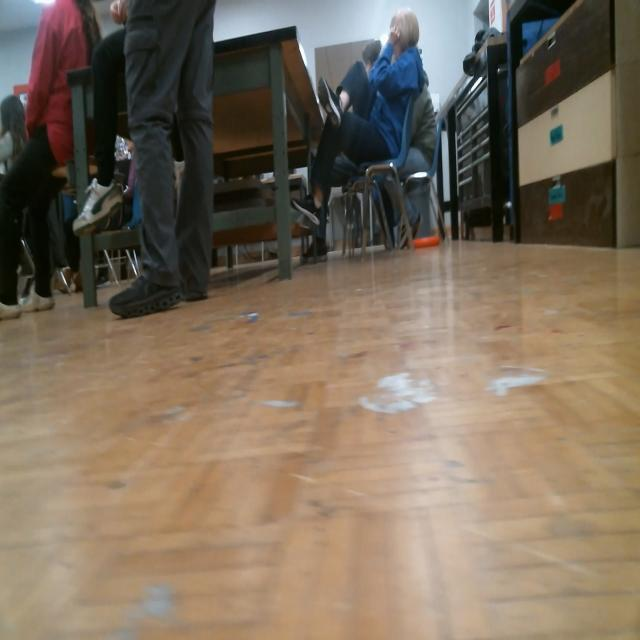note: (406, 236, 441, 249)
